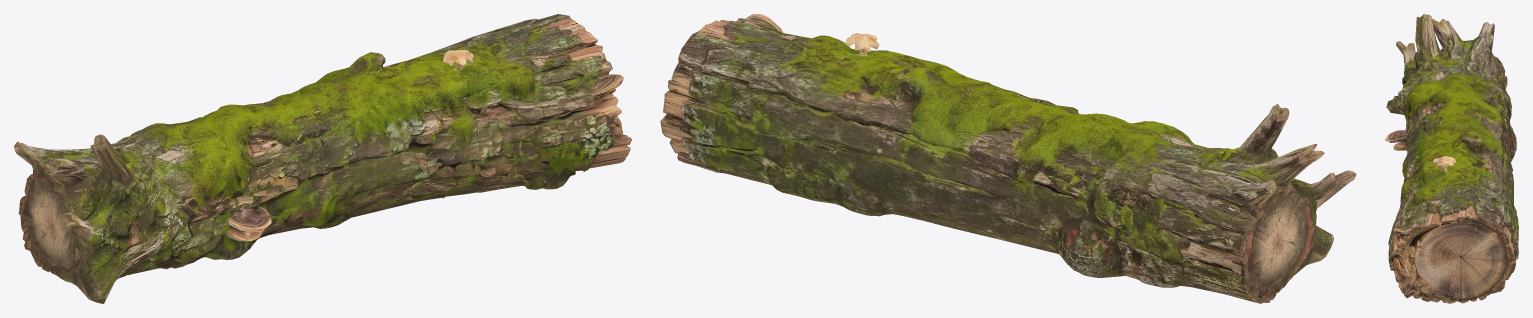
The model's file is fallen-log.glb.
The picture shows the model from 3 angles, left to right: view 1: azimuth 30°, elevation 25°; view 2: azimuth 150°, elevation 25°; view 3: azimuth 270°, elevation 25°; orthographic projection. The views are drawn at different scales.
Parts seen in each view (by area): view 1: Mesh_0; view 2: Mesh_0; view 3: Mesh_0.
Boxes of the visible parts, x1,y1,x2,y2 form: Mesh_0: (14,14,631,303); Mesh_0: (660,14,1356,303); Mesh_0: (1385,14,1518,303).
Size of the model in its own units: 1.9 by 0.4998 by 0.5315.
1 material, 1 textured.
